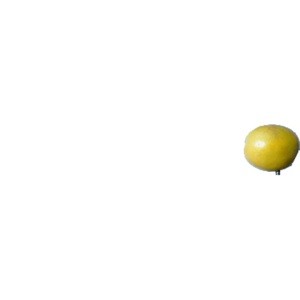maracujá: (244, 124, 300, 176)
